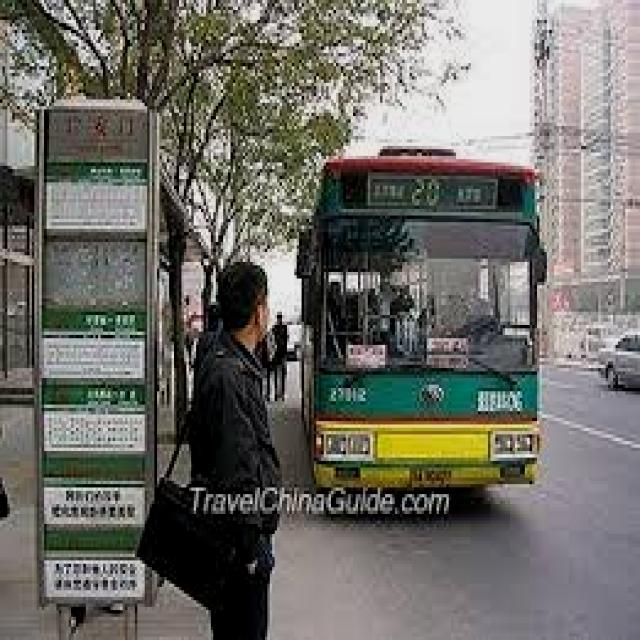bus: (292, 137, 582, 521)
